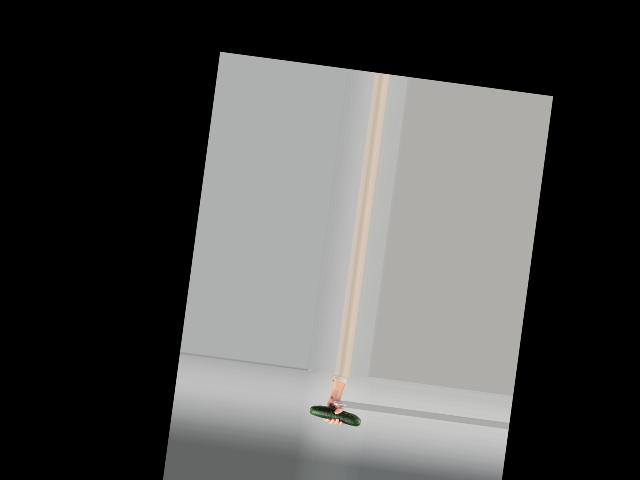cucumber: (309, 404, 362, 427)
